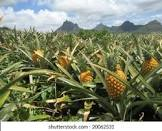Pineapple: (104, 53, 129, 99)
